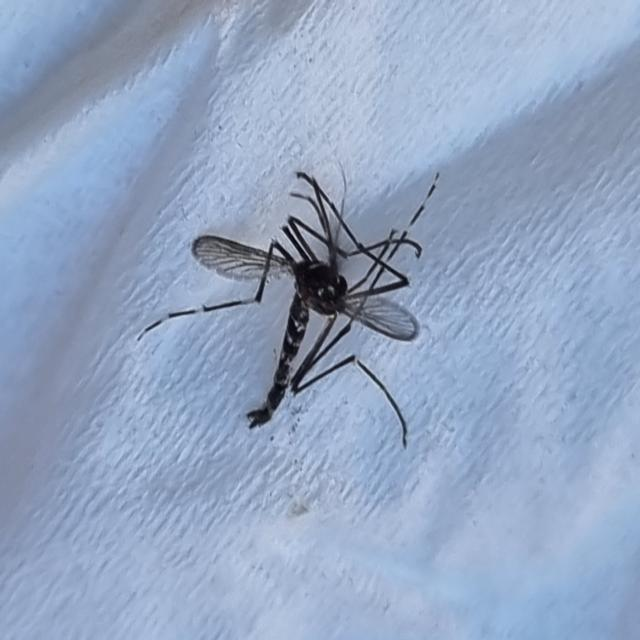albopictus: (146, 151, 446, 457)
